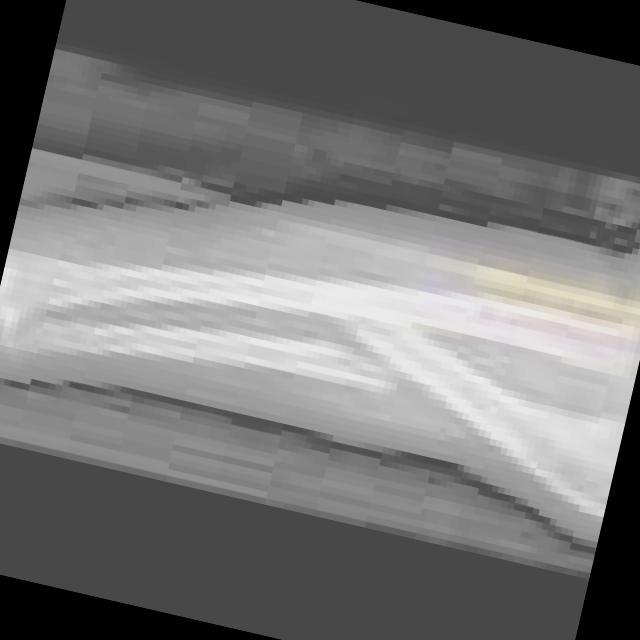Fracture Dislocation: (351, 312, 429, 399)
